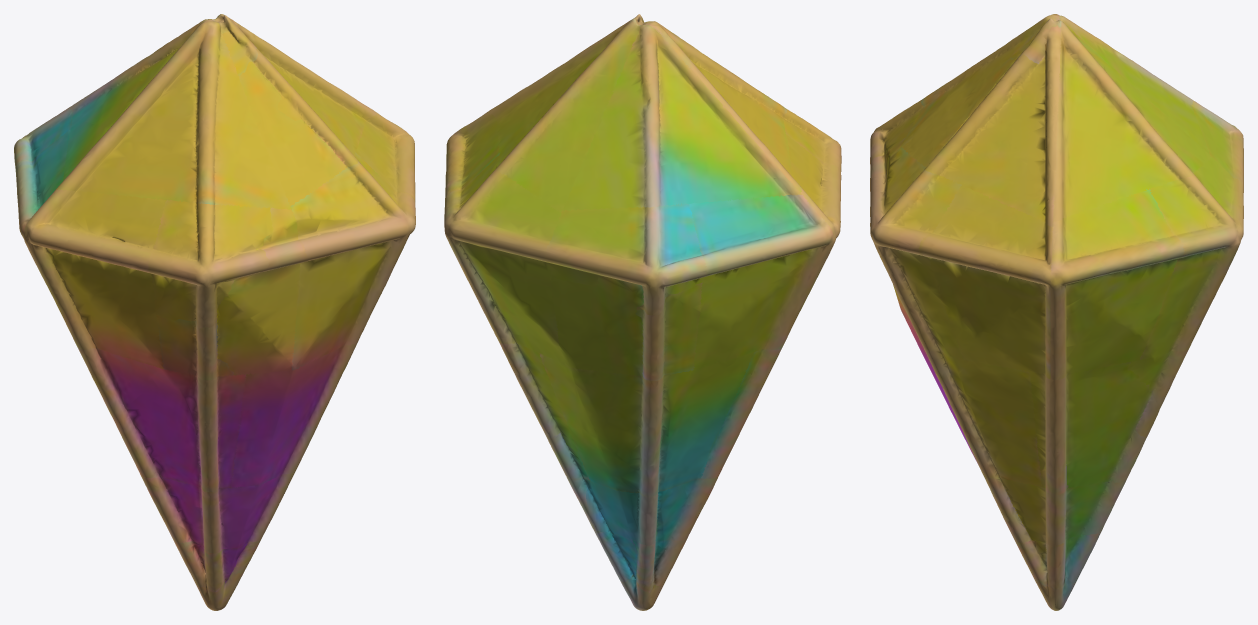
File: powerup_laser.glb
3 views of the same model, side by side, from view 1: azimuth 30°, elevation 25°; view 2: azimuth 150°, elevation 25°; view 3: azimuth 270°, elevation 25° (orthographic).
Parts seen in each view (by area): view 1: tripo_node_7f0c0a10-e409-41c9-8758-82ca9a2e2942; view 2: tripo_node_7f0c0a10-e409-41c9-8758-82ca9a2e2942; view 3: tripo_node_7f0c0a10-e409-41c9-8758-82ca9a2e2942.
Part boxes in pixels (x1=…): tripo_node_7f0c0a10-e409-41c9-8758-82ca9a2e2942: x1=14, y1=14, x2=415, y2=610; tripo_node_7f0c0a10-e409-41c9-8758-82ca9a2e2942: x1=444, y1=14, x2=841, y2=610; tripo_node_7f0c0a10-e409-41c9-8758-82ca9a2e2942: x1=870, y1=14, x2=1243, y2=610.
Bounding box in the file's own units: 0.6766 × 1 × 0.5697.
1 material, 1 textured.
